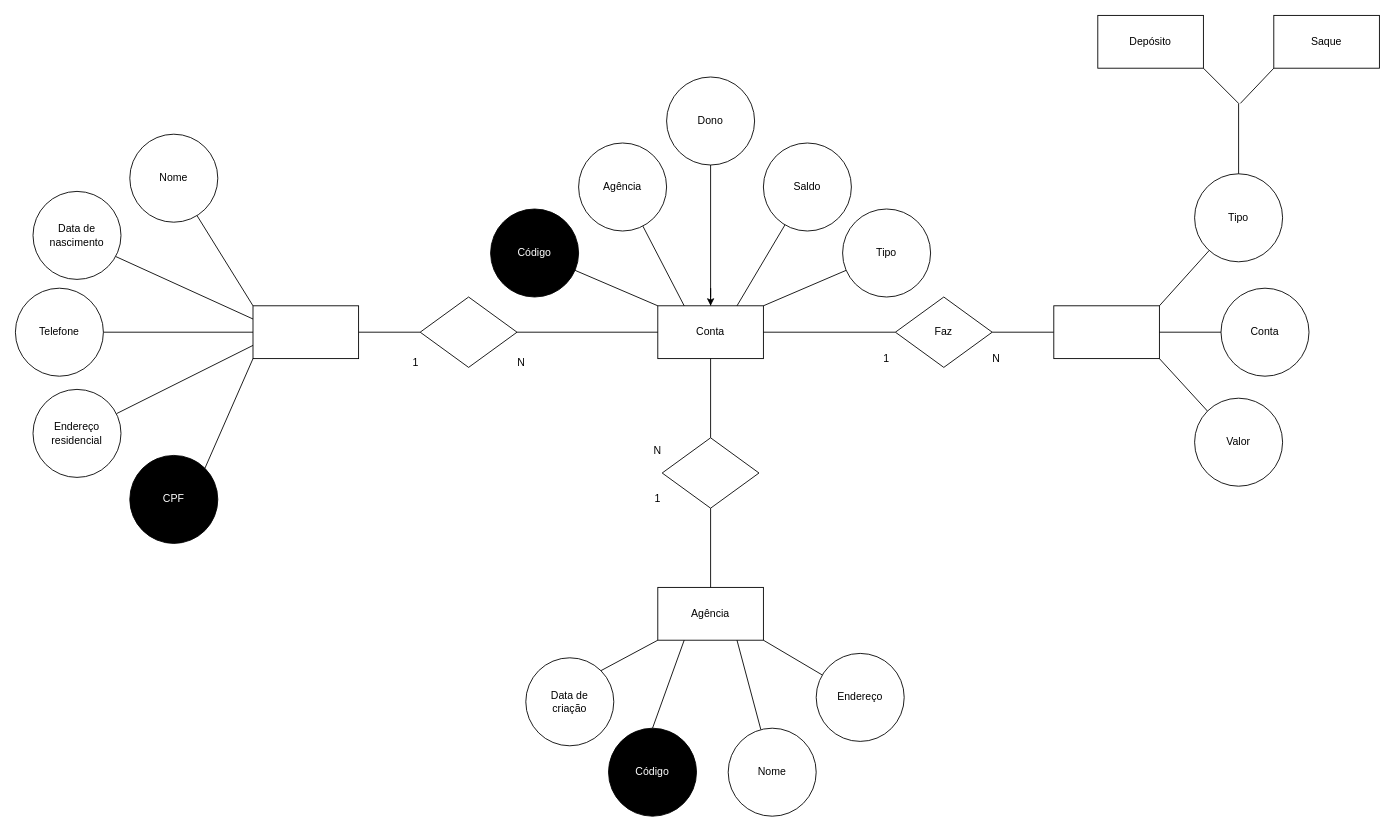
Some shapes in this 1395 by 832 pixel diagram are drawn without their labels. The shapes that lost their labels are listed below. From the top down, each one's box as (x1, y1, x2, y2) in pixels, then its label:
(252, 305, 359, 359): Cliente
(419, 296, 517, 367): Tem
(1053, 305, 1159, 359): Transações
(661, 437, 759, 508): Pertence
